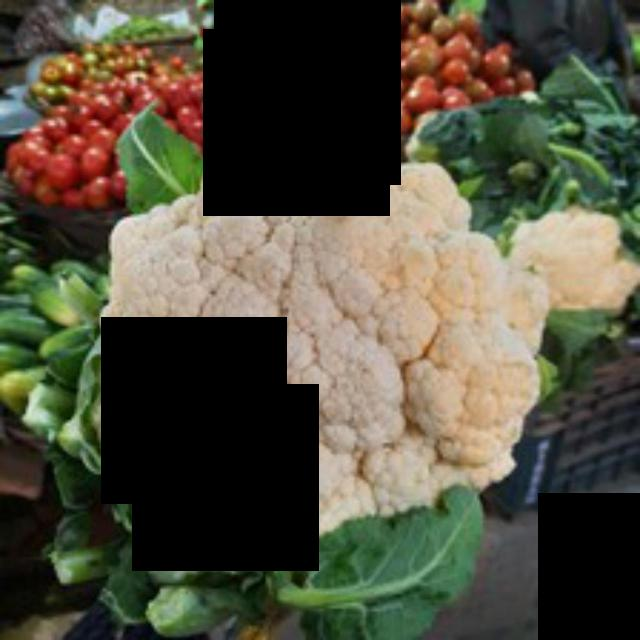cauliflower: (90, 113, 566, 551)
